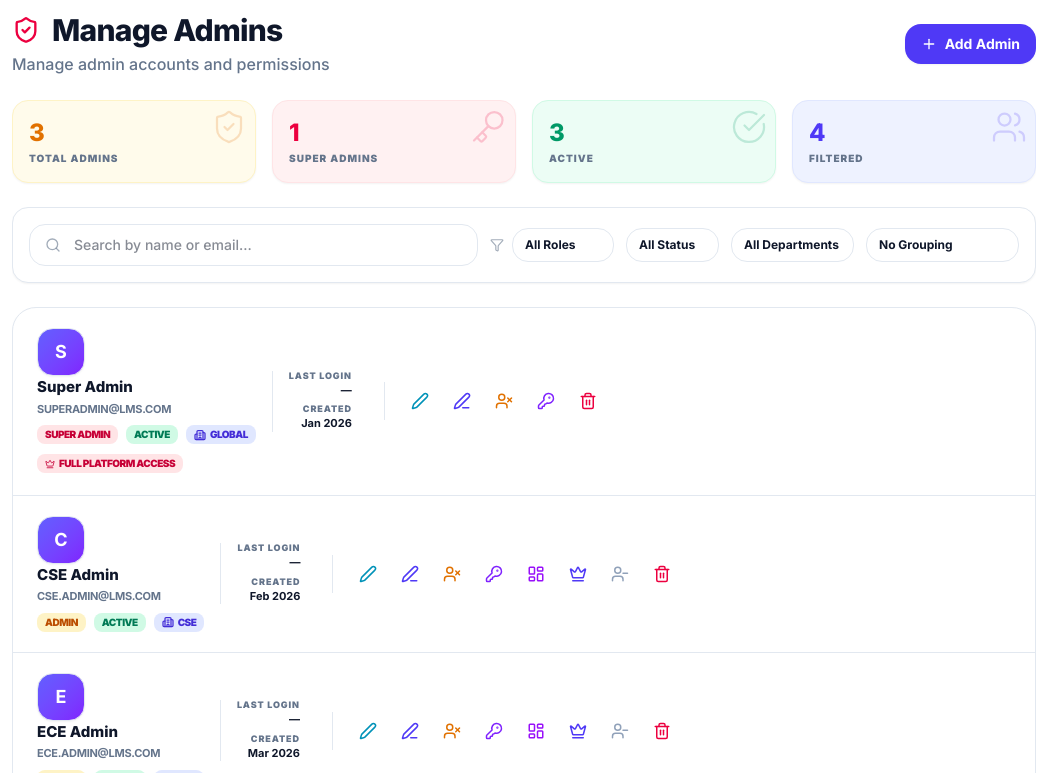
Scenario: ManageAdmins — filtering › shows "No admins found" when filters match nothing
The image size is (1048, 773).
Type "zzzznonexistent" into the field with placeholder "Search by name or email...".
click(254, 245); type("zzzznonexistent")  # box [29,224,478,266]
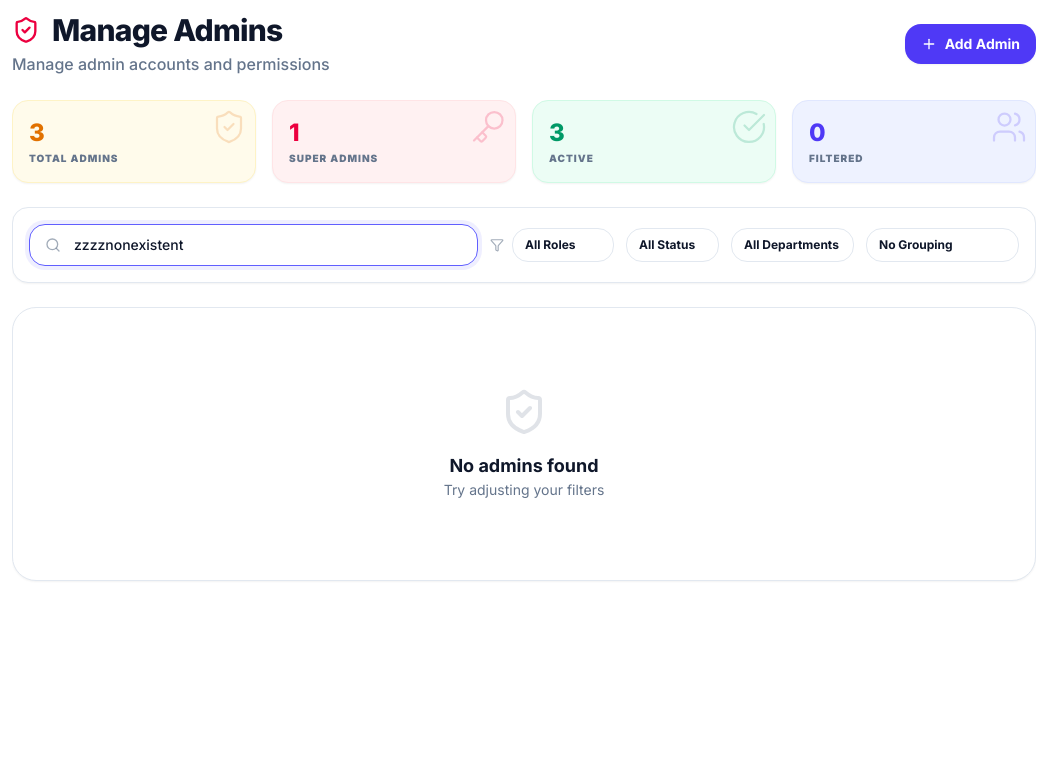
Now the heading "No admins found" is shown, box [449,455,599,476]
